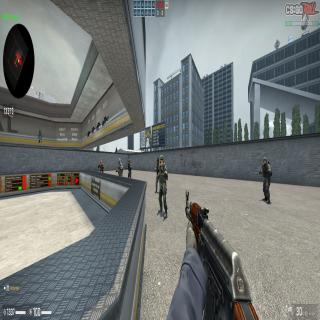CT-Body: (157, 155, 168, 219), (259, 158, 272, 205), (154, 158, 162, 194), (116, 158, 123, 178), (127, 159, 132, 180)
CT-Head: (160, 155, 164, 167), (263, 157, 267, 165), (118, 158, 121, 164), (157, 158, 159, 165), (128, 160, 130, 164)
T-Body: (98, 160, 104, 173)
T-Head: (100, 160, 102, 165)
